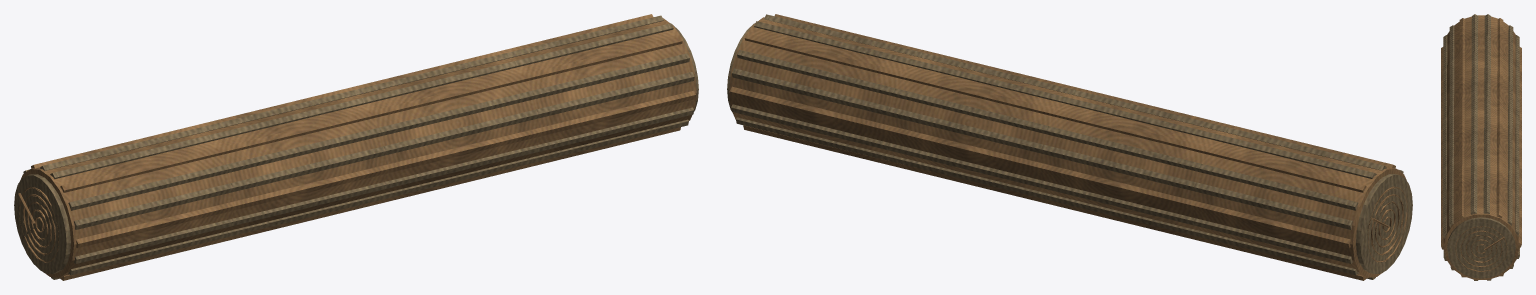
The model's file is log.glb.
The picture shows the model from 3 angles, left to right: view 1: azimuth 30°, elevation 25°; view 2: azimuth 150°, elevation 25°; view 3: azimuth 270°, elevation 25°; orthographic projection. The views are drawn at different scales.
Parts seen in each view (by area): view 1: log_premium; view 2: log_premium; view 3: log_premium.
Boxes of the visible parts, <box> form: log_premium: <box>14,14,698,280</box>; log_premium: <box>727,14,1412,280</box>; log_premium: <box>1441,14,1521,280</box>.
Size of the model in its own units: 5.04 by 0.7986 by 0.8398.
Materials: 2 (2 with a texture image).
